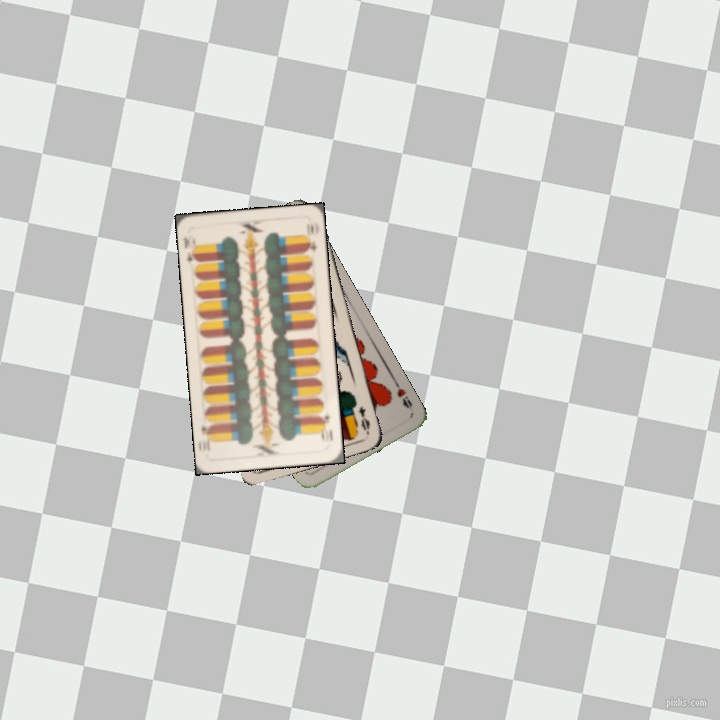E10: (180, 230, 202, 265), (316, 410, 335, 445)
EO: (354, 402, 373, 437)
H9: (390, 376, 415, 414)
